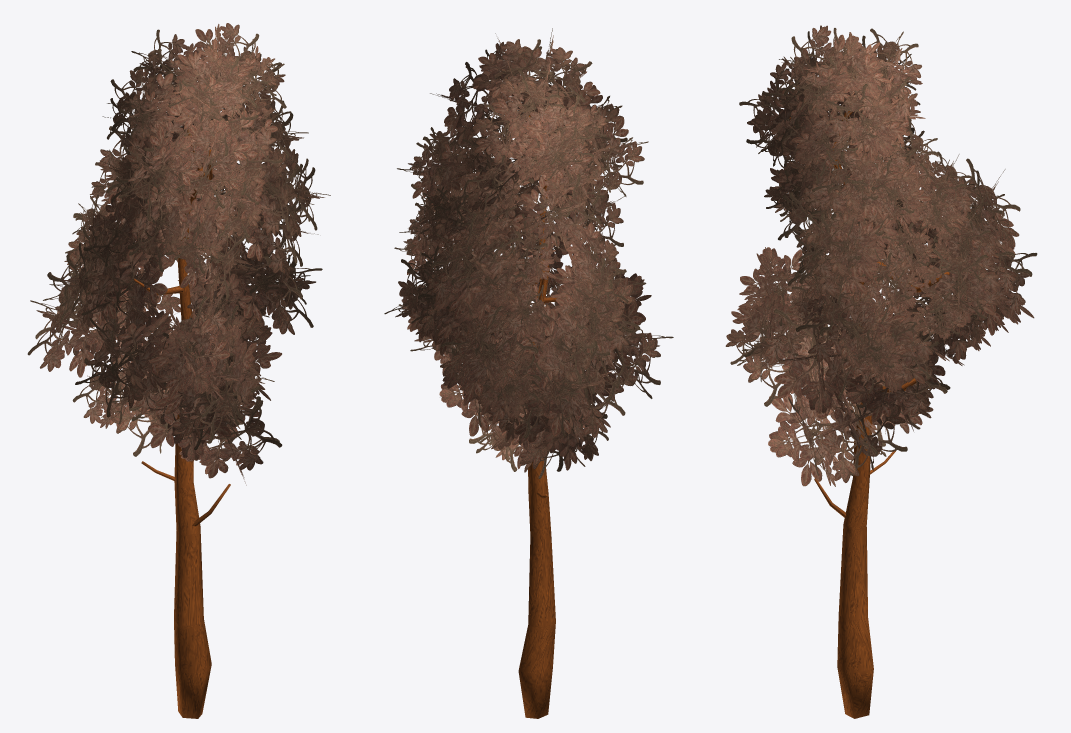
The model's file is TREE substance.fbx.
3 views of the same model, side by side, from view 1: azimuth 30°, elevation 25°; view 2: azimuth 150°, elevation 25°; view 3: azimuth 270°, elevation 25° (orthographic). The views are drawn at different scales.
Visible parts, largest first — view 1: TFF_Aspen_Tree_03C; view 2: TFF_Aspen_Tree_03C; view 3: TFF_Aspen_Tree_03C.
Boxes of the visible parts, box(x1,y1,x2,y2) form: TFF_Aspen_Tree_03C: box(27, 23, 330, 718); TFF_Aspen_Tree_03C: box(384, 28, 673, 718); TFF_Aspen_Tree_03C: box(725, 25, 1037, 718).
Bounding box in the file's own units: 301 × 738 × 325.
2 materials, 2 textured.
